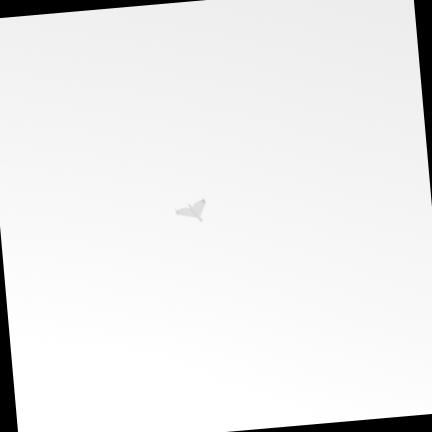Shahed: (176, 198, 205, 221)
